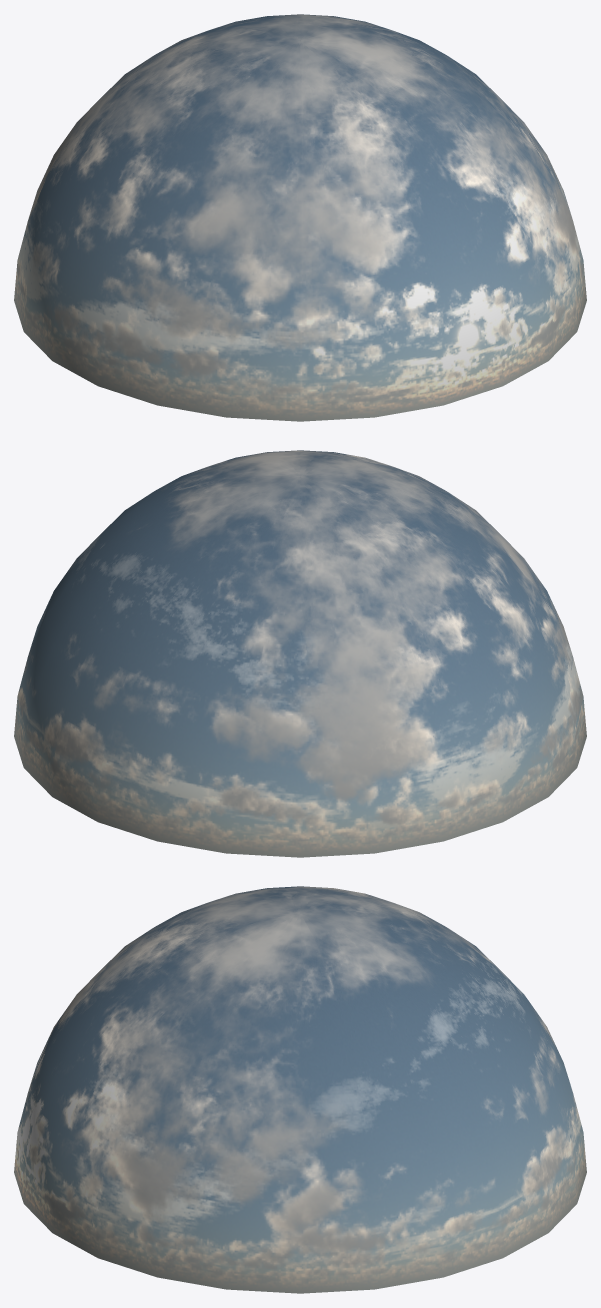
3 renders of one model, top to bottom at view 1: azimuth 30°, elevation 25°; view 2: azimuth 150°, elevation 25°; view 3: azimuth 270°, elevation 25°, orthographic.
Parts seen in each view (by area): view 1: pSphere1; view 2: pSphere1; view 3: pSphere1.
Part boxes in pixels (x1,y1,x2,y2): pSphere1: (14, 14, 586, 421); pSphere1: (14, 450, 586, 857); pSphere1: (14, 886, 586, 1293).
Bounding box in the file's own units: 16.7 × 8.35 × 16.7.
1 material, 1 textured.
